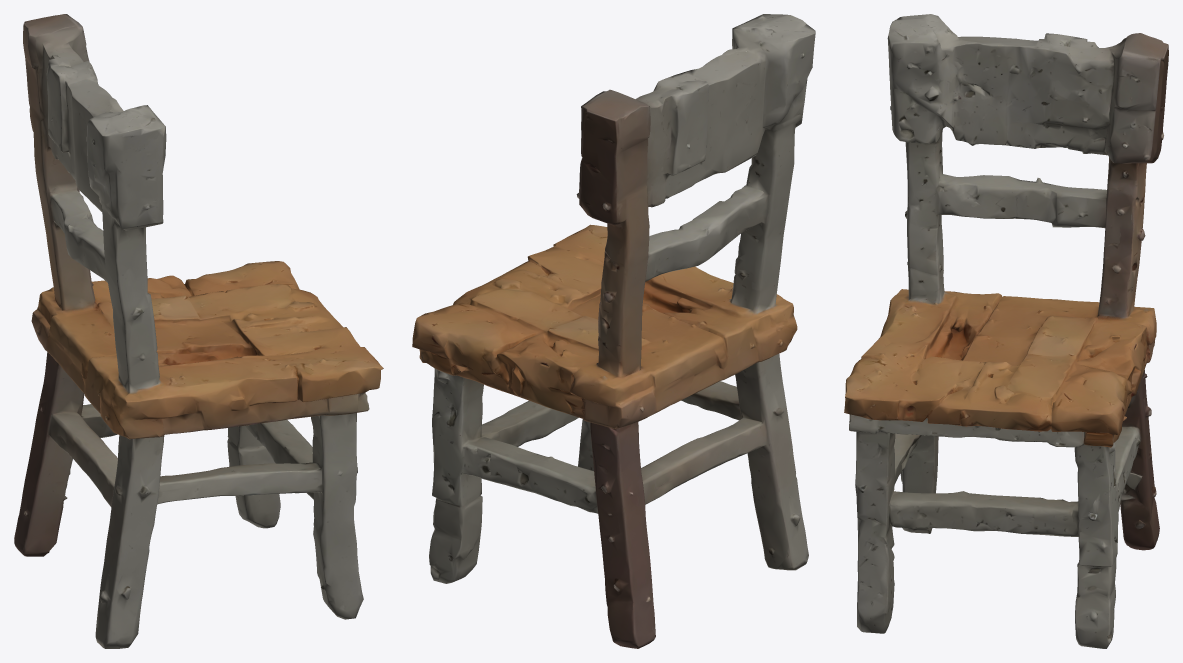
Rendered from chair.glb.
The picture shows the model from 3 angles, left to right: view 1: azimuth 30°, elevation 25°; view 2: azimuth 150°, elevation 25°; view 3: azimuth 270°, elevation 25°; orthographic projection. The views are drawn at different scales.
Parts seen in each view (by area): view 1: tripo_node_9b65fa99-f5ac-460d-9555-d47f36428d65; view 2: tripo_node_9b65fa99-f5ac-460d-9555-d47f36428d65; view 3: tripo_node_9b65fa99-f5ac-460d-9555-d47f36428d65.
Part boxes in pixels (x1=…): tripo_node_9b65fa99-f5ac-460d-9555-d47f36428d65: x1=14, y1=14, x2=383, y2=648; tripo_node_9b65fa99-f5ac-460d-9555-d47f36428d65: x1=412, y1=14, x2=815, y2=648; tripo_node_9b65fa99-f5ac-460d-9555-d47f36428d65: x1=844, y1=14, x2=1168, y2=648.
Bounding box in the file's own units: 0.5642 × 1 × 0.5733.
Materials: 1 (1 with a texture image).
